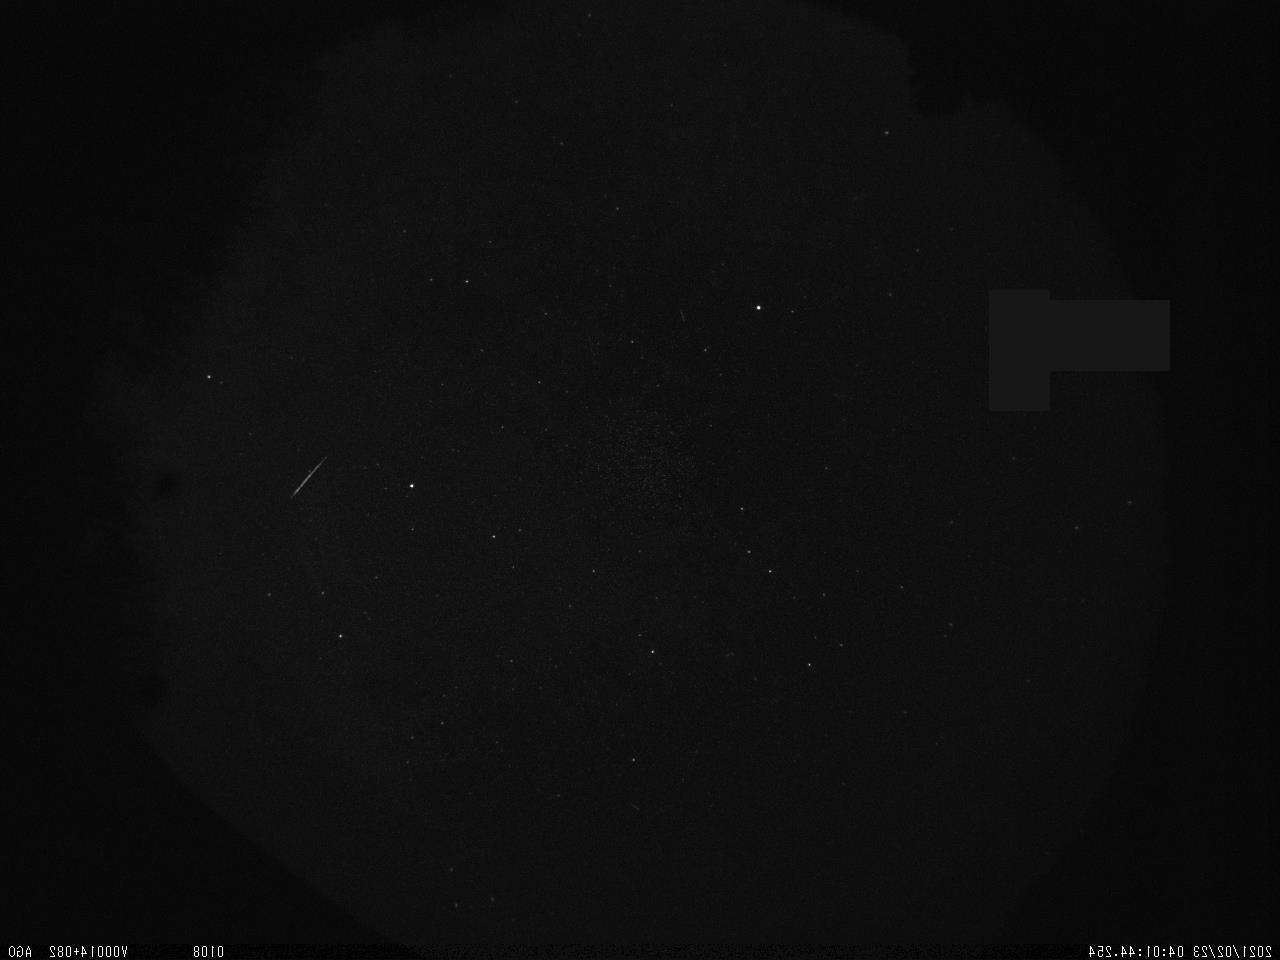meteor: (288, 455, 331, 501)
